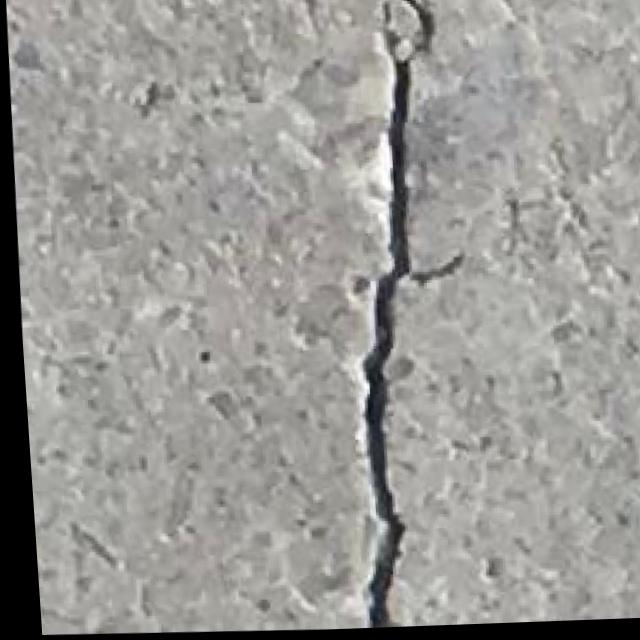Crack: (313, 0, 491, 631)
